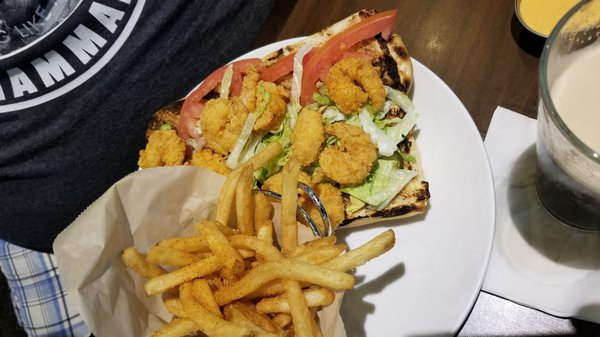pizza: (533, 2, 600, 236)
soup: (283, 9, 432, 228)
